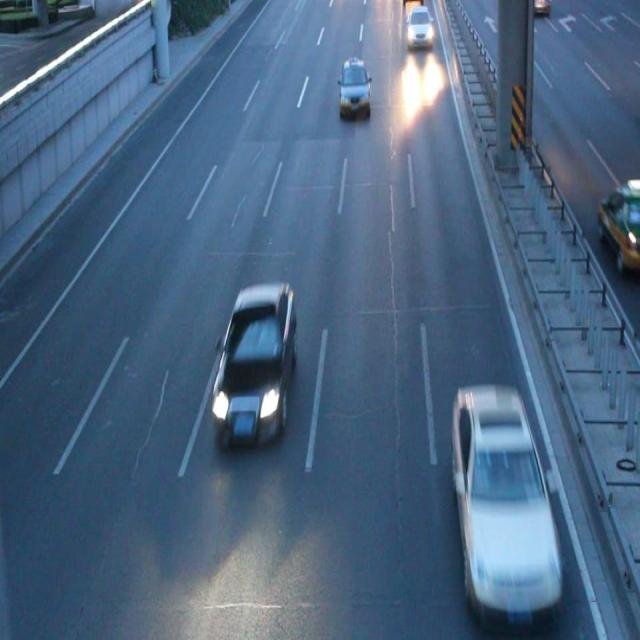car: (450, 385, 560, 598), (211, 282, 296, 442), (596, 183, 640, 271), (338, 59, 371, 118), (407, 8, 432, 46)
